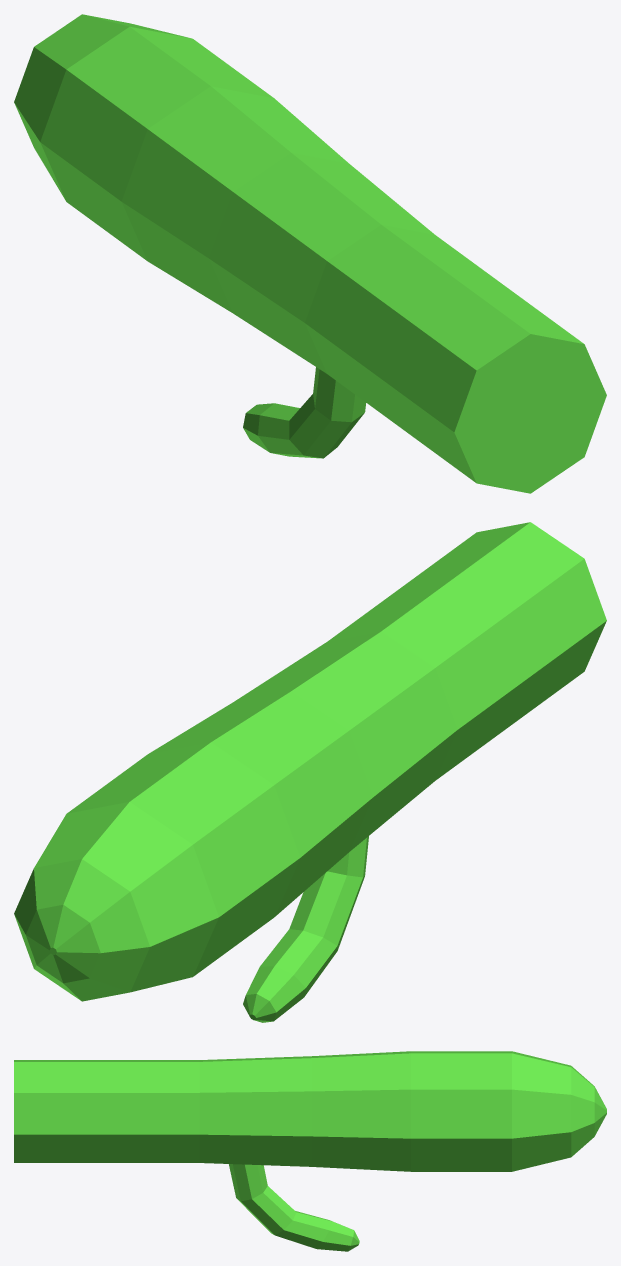
3 views of the same model, one above another, from view 1: azimuth 30°, elevation 25°; view 2: azimuth 150°, elevation 25°; view 3: azimuth 270°, elevation 25° (orthographic). The views are drawn at different scales.
Visible parts, largest first — view 1: Cylinder; view 2: Cylinder; view 3: Cylinder.
Boxes of the visible parts, x1=… form: Cylinder: x1=14, y1=14, x2=606, y2=493; Cylinder: x1=14, y1=522, x2=606, y2=1022; Cylinder: x1=14, y1=1051, x2=606, y2=1251.
Bounding box in the file's own units: 623 × 229 × 135.
